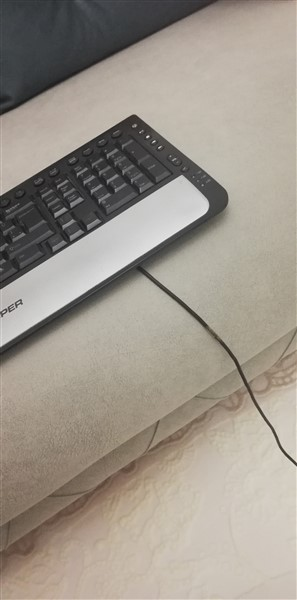klavye: (1, 113, 234, 354)
